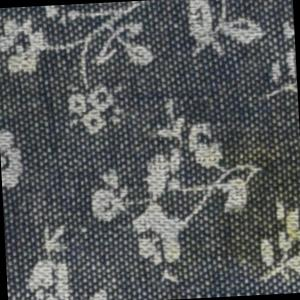Oil Stain: (208, 139, 300, 279)
